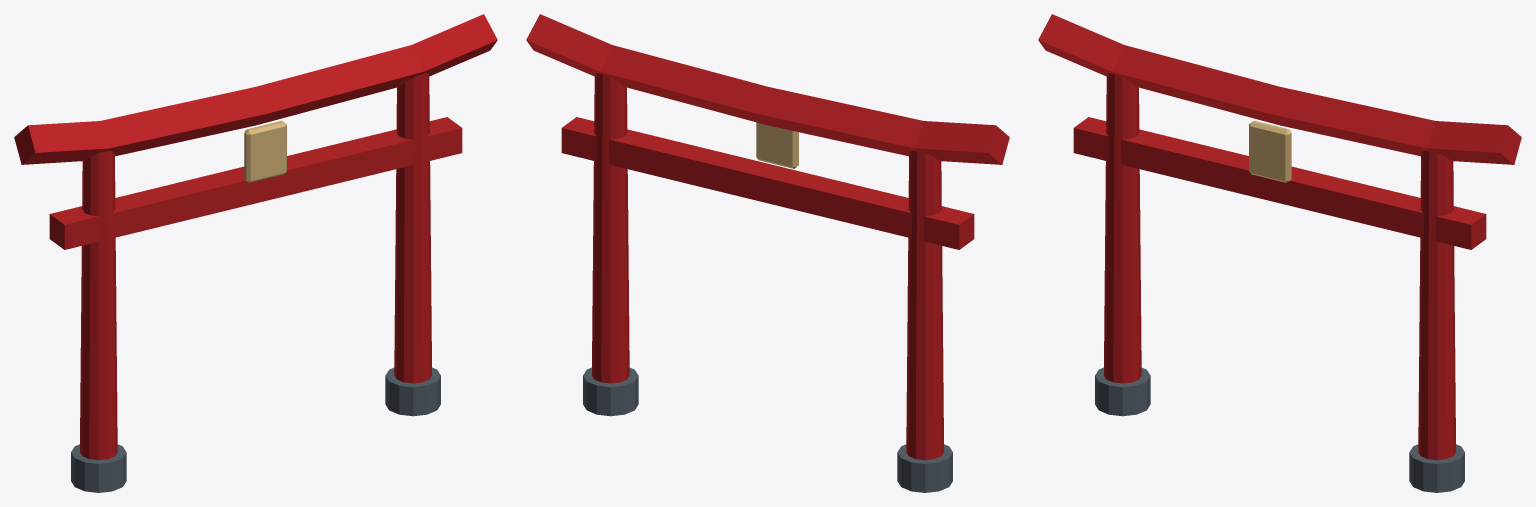
File: red_shrine_gate.glb
3 views of the same model, side by side, from view 1: azimuth 30°, elevation 25°; view 2: azimuth 150°, elevation 25°; view 3: azimuth 330°, elevation 25° (orthographic).
Visible parts, largest first — view 1: Crown, Crossbar, Pillar, Pillar.001, CenterTablet, Foot, Foot.001; view 2: Crown, Crossbar, Pillar, Pillar.001, Foot, Foot.001, CenterTablet; view 3: Crown, Crossbar, Pillar.001, Pillar, CenterTablet, Foot.001, Foot.
Part boxes in pixels (x1,y1,x2,y2): Crown: [14, 14, 497, 164]; Crossbar: [49, 117, 462, 249]; Pillar: [80, 151, 117, 460]; Pillar.001: [394, 73, 431, 383]; CenterTablet: [244, 120, 286, 182]; Foot: [71, 444, 126, 492]; Foot.001: [385, 367, 440, 416]; Crown: [526, 14, 1009, 164]; Crossbar: [561, 117, 974, 249]; Pillar: [906, 151, 943, 460]; Pillar.001: [592, 73, 629, 383]; Foot: [897, 444, 952, 492]; Foot.001: [583, 367, 638, 416]; CenterTablet: [756, 122, 798, 168]; Crown: [1038, 14, 1521, 164]; Crossbar: [1073, 117, 1486, 249]; Pillar.001: [1418, 151, 1455, 460]; Pillar: [1104, 73, 1141, 383]; CenterTablet: [1249, 120, 1291, 182]; Foot.001: [1409, 444, 1464, 492]; Foot: [1095, 367, 1150, 416].
Bounding box in the file's own units: 2.53 × 1.93 × 0.26.
1 material, 1 textured.
